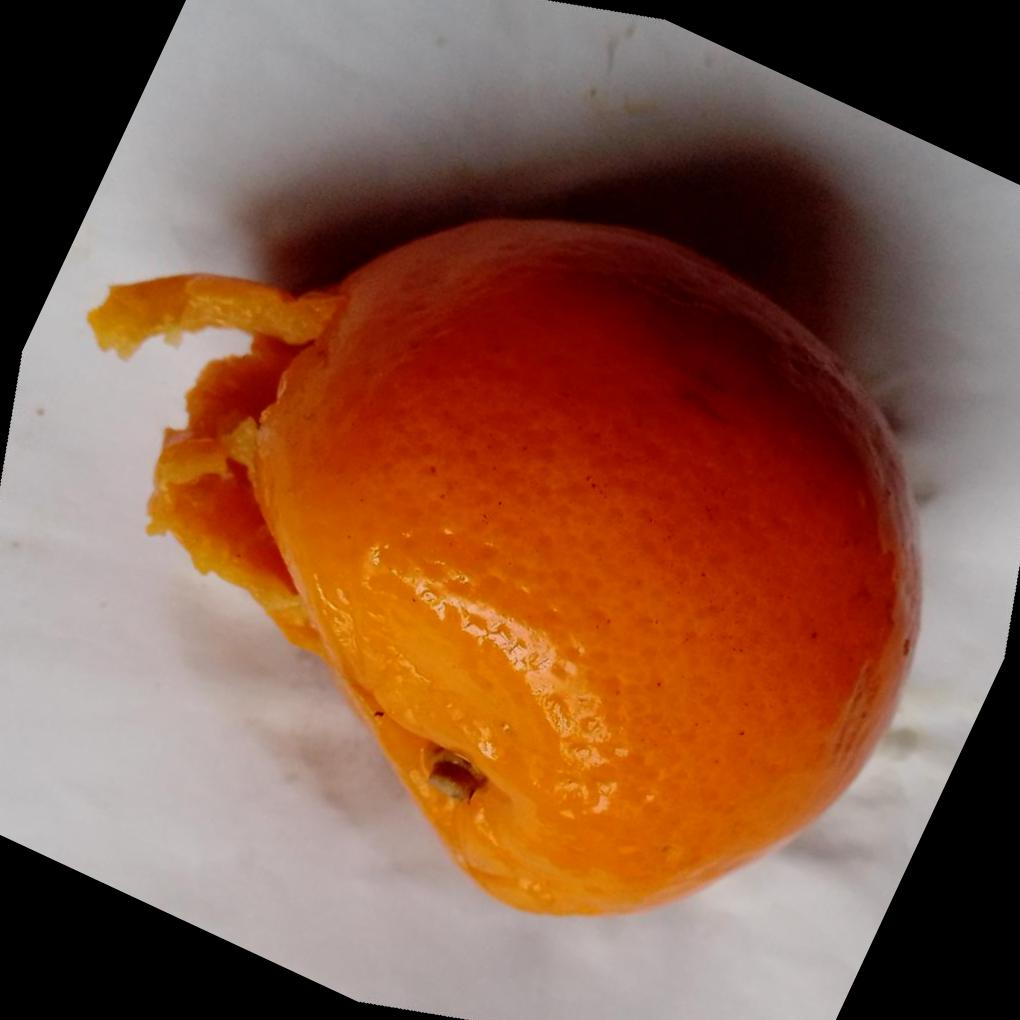FreshOrange: (92, 218, 922, 922)
